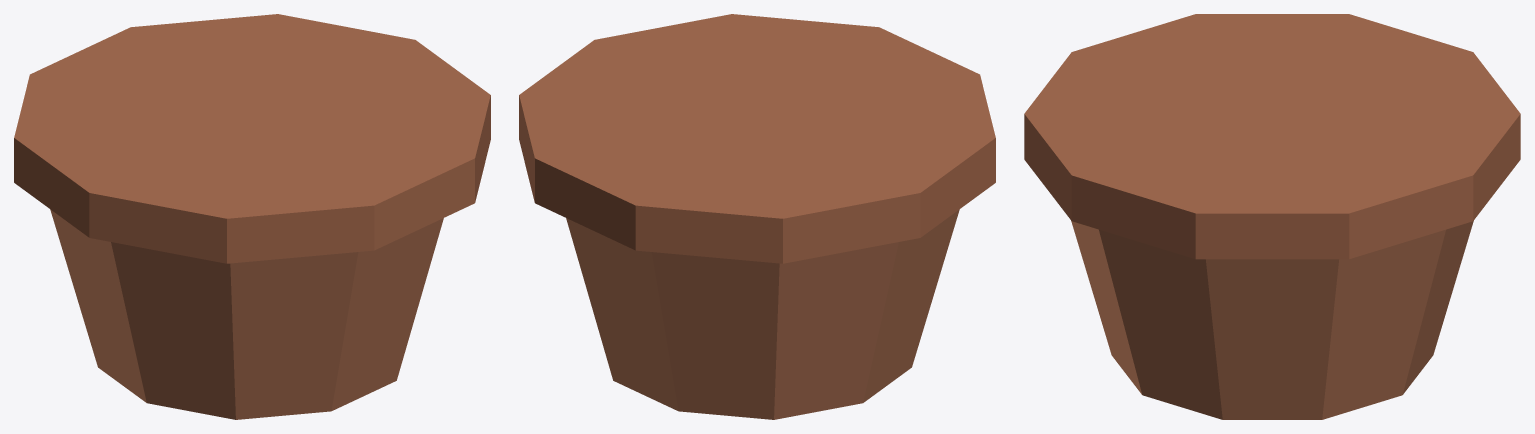
The model's file is pot.glb.
3 renders of one model, left to right at view 1: azimuth 30°, elevation 25°; view 2: azimuth 150°, elevation 25°; view 3: azimuth 270°, elevation 25°, orthographic.
Visible parts, largest first — view 1: pot; view 2: pot; view 3: pot.
Part boxes in pixels (x1,y1,x2,y2): pot: (14, 14, 490, 419); pot: (519, 14, 995, 419); pot: (1024, 14, 1520, 419).
Size of the model in its own units: 2.05 by 1.16 by 2.16.
